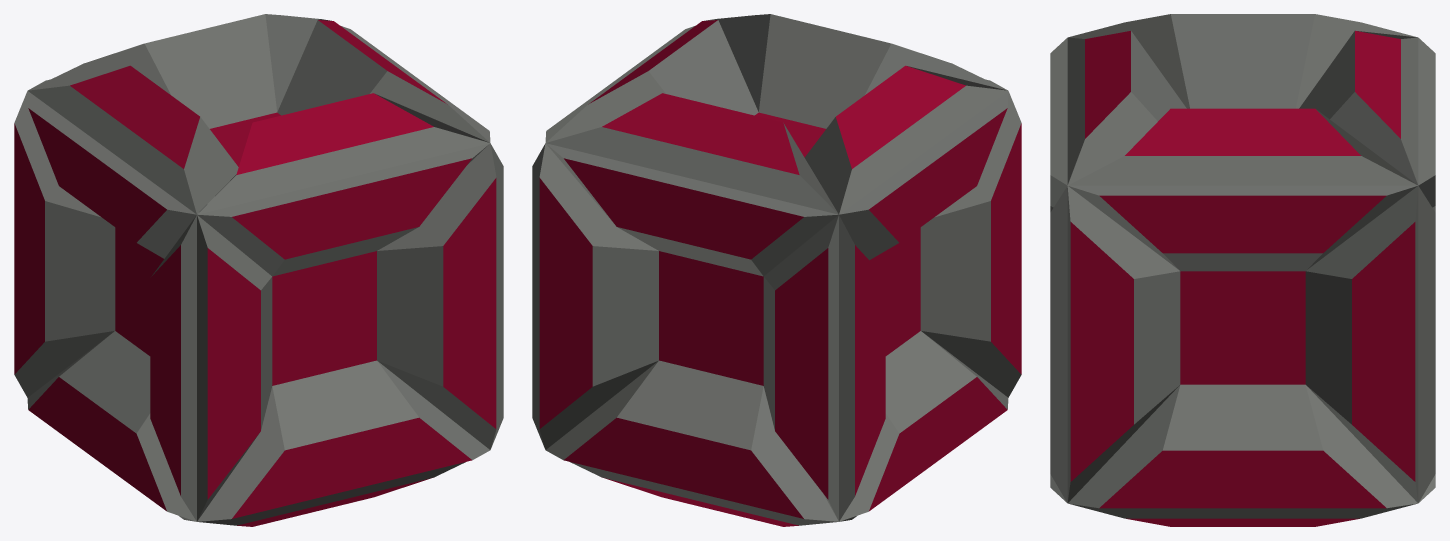
The model's file is HemoraEssence.fbx.
The picture shows the model from 3 angles, left to right: view 1: azimuth 30°, elevation 25°; view 2: azimuth 150°, elevation 25°; view 3: azimuth 270°, elevation 25°; orthographic projection. The views are drawn at different scales.
Parts seen in each view (by area): view 1: Cube; view 2: Cube; view 3: Cube.
Boxes of the visible parts, x1,y1,x2,y2 form: Cube: [14, 14, 503, 526]; Cube: [532, 14, 1021, 526]; Cube: [1050, 14, 1435, 526].
Size of the model in its own units: 177 by 212 by 177.
